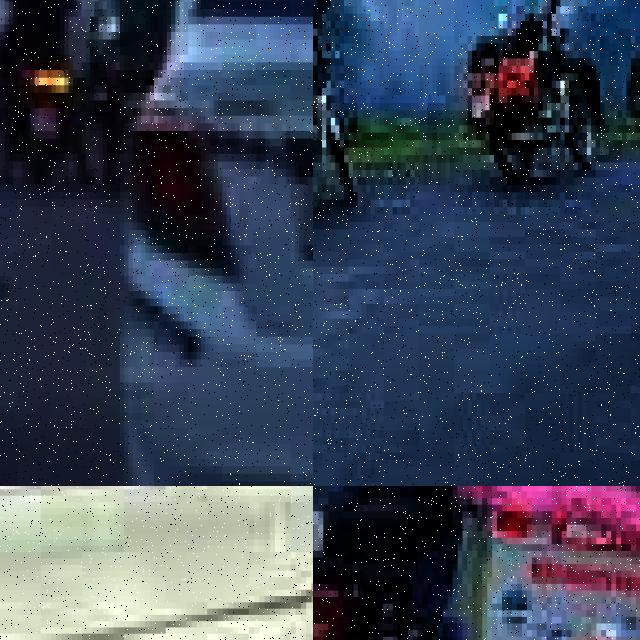bike: (463, 14, 609, 192), (313, 486, 442, 640), (313, 0, 370, 236)
car: (0, 486, 313, 640)
